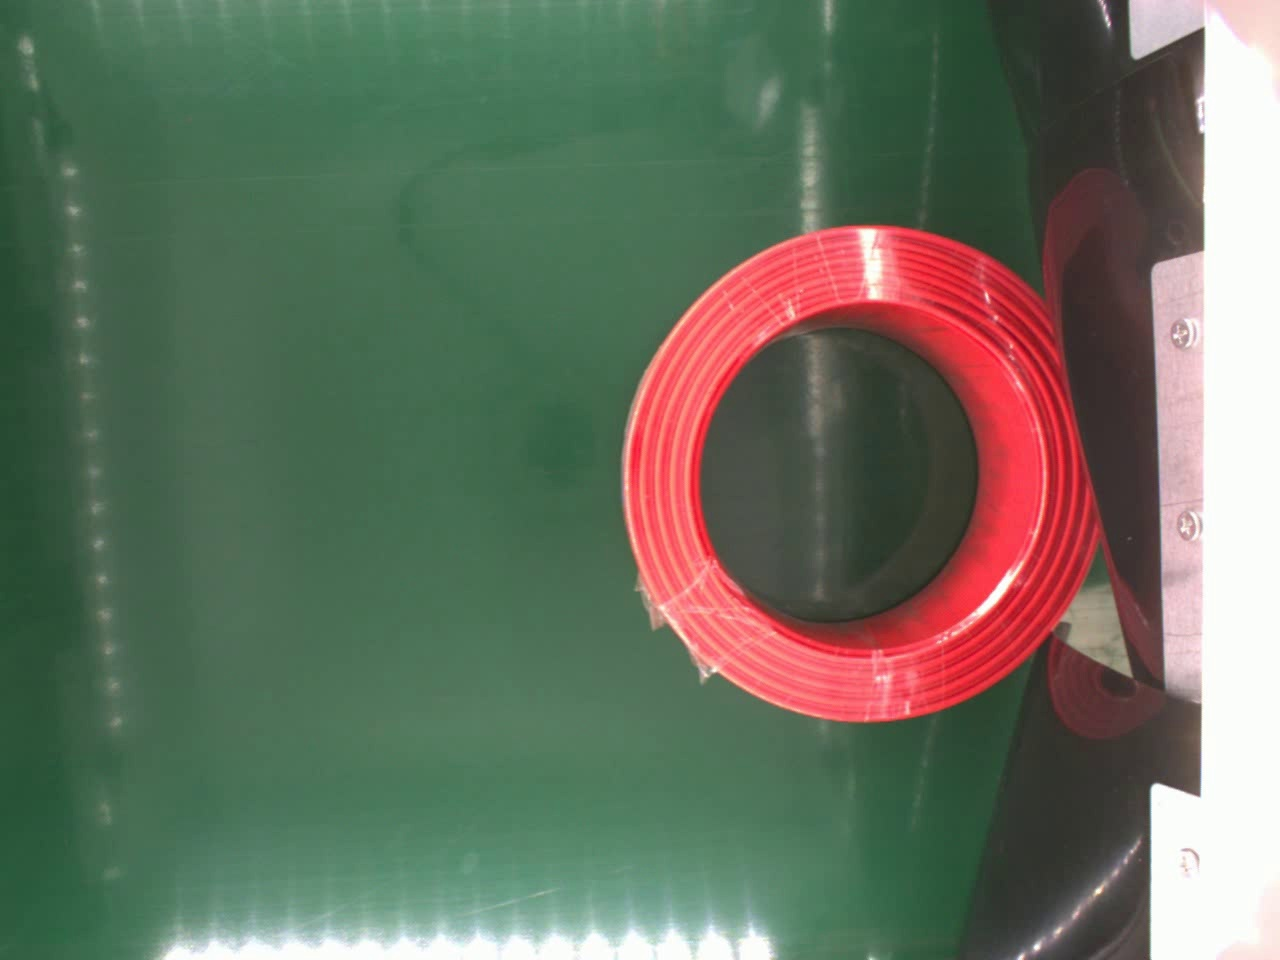red: (618, 221, 1103, 723)
